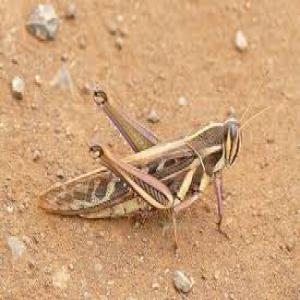locust: (40, 90, 251, 250)
